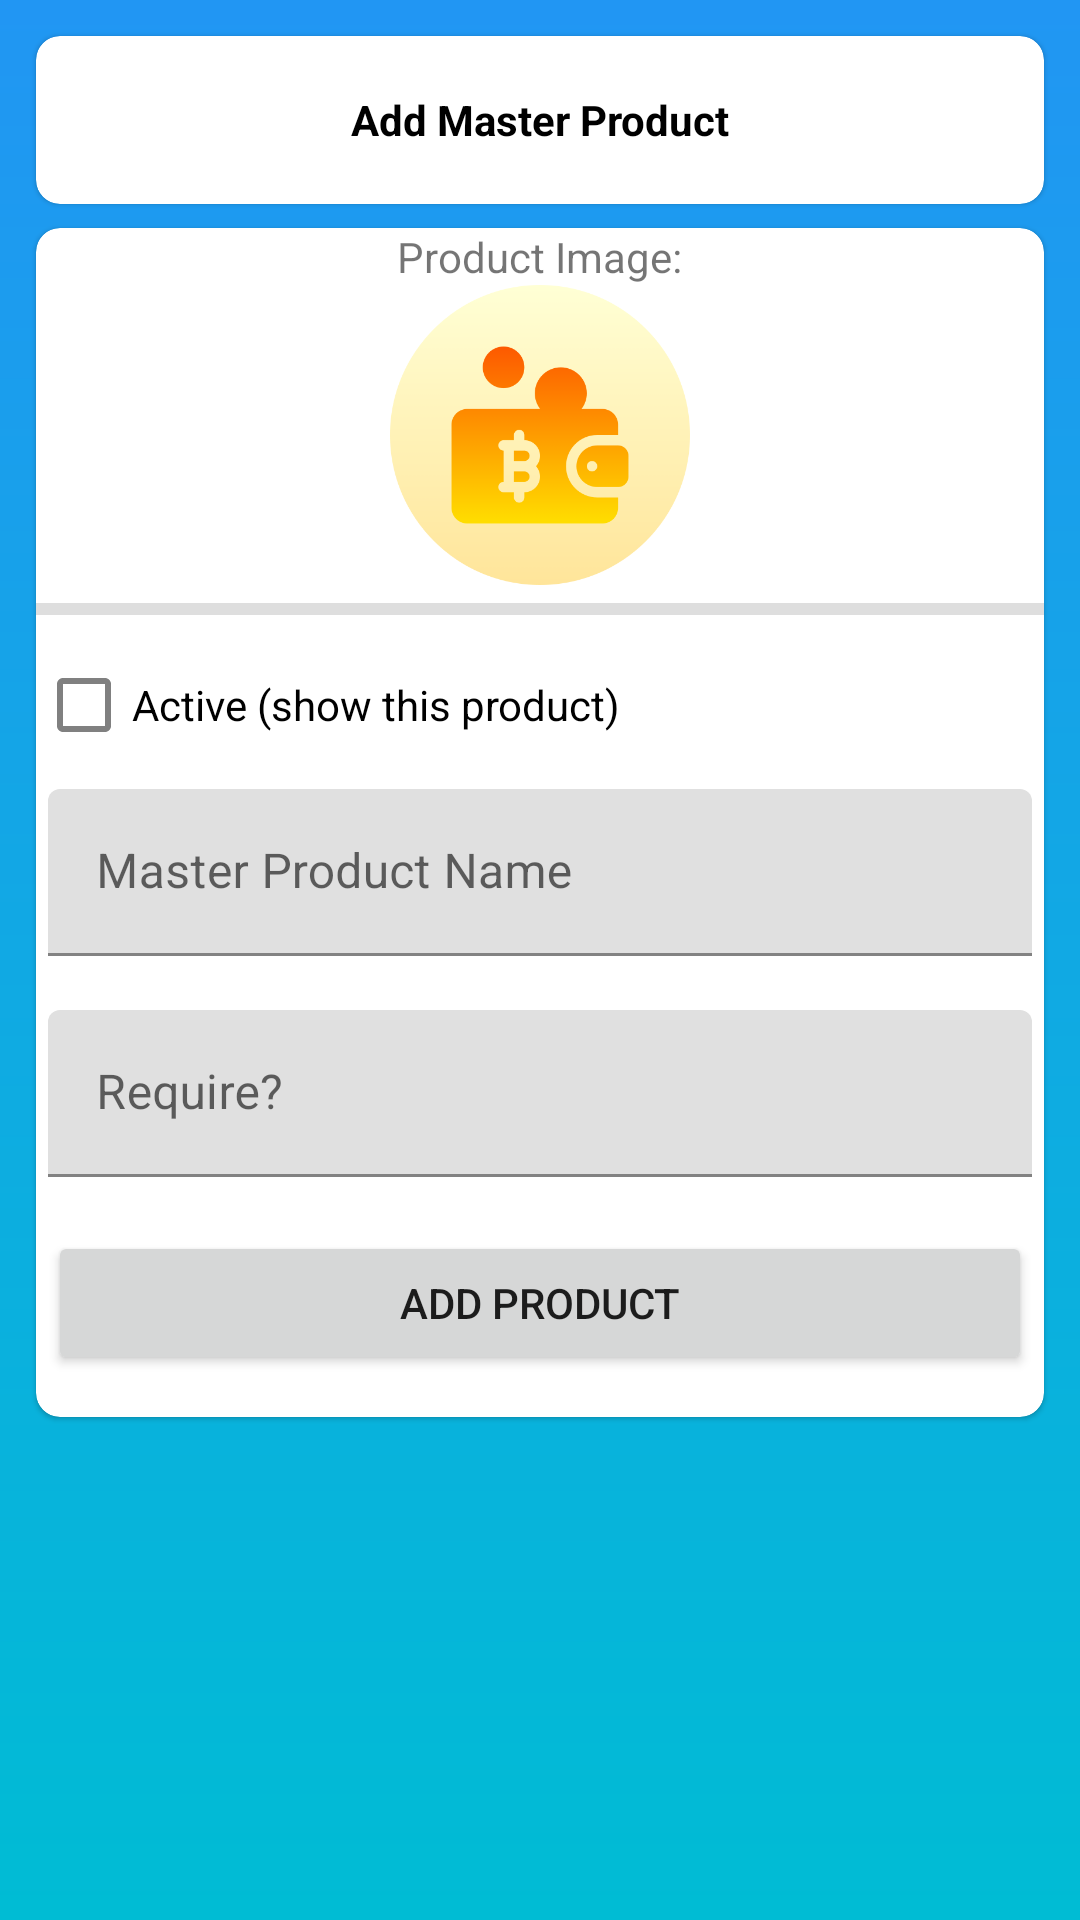

Where icons sit on this 1080 x 1920 app screen, as (x1, y1, x2, y2):
wallet: (390, 285, 690, 585)
